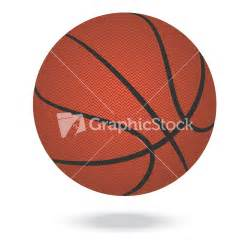basketball: (31, 12, 220, 197)
